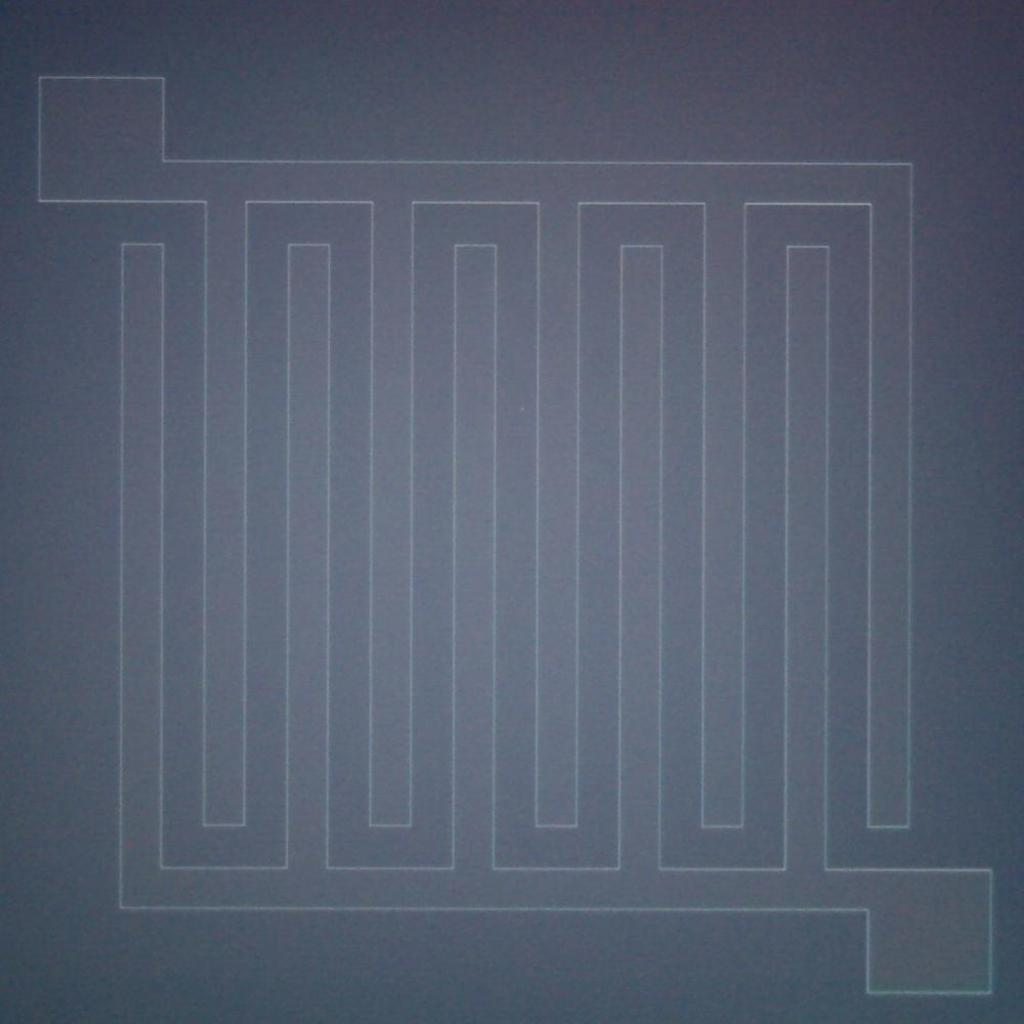dot: (520, 407, 524, 412)
